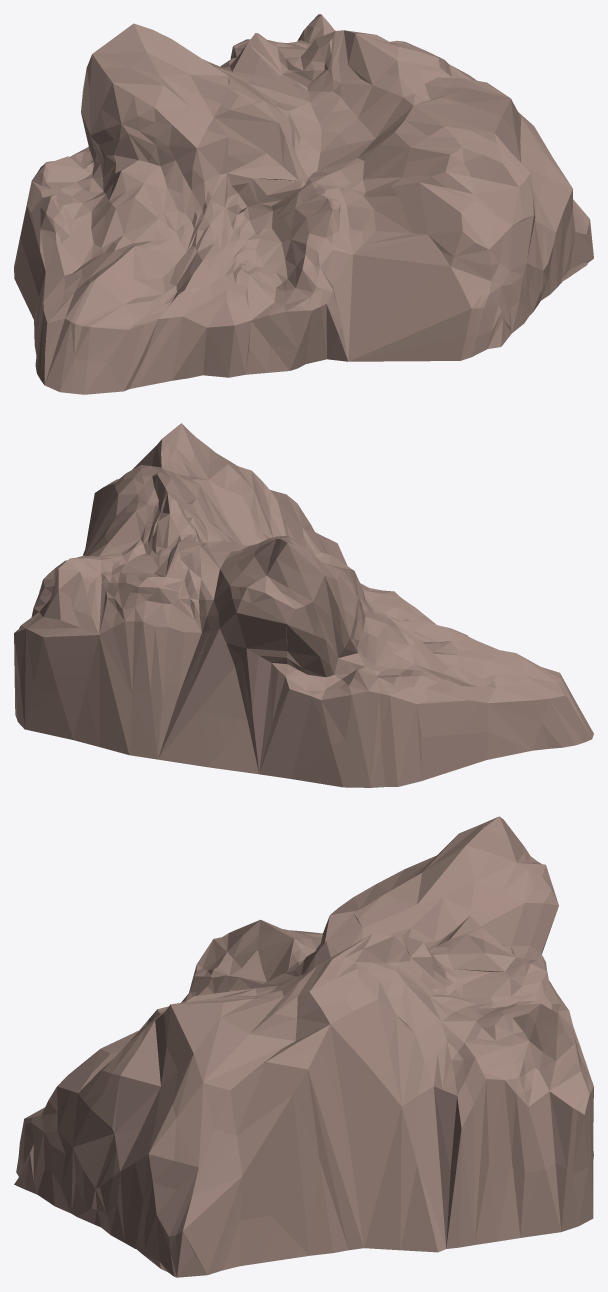
File: mountain.007.fbx
The picture shows the model from 3 angles, top to bottom: view 1: azimuth 30°, elevation 25°; view 2: azimuth 150°, elevation 25°; view 3: azimuth 270°, elevation 25°; orthographic projection. The views are drawn at different scales.
Visible parts, largest first — view 1: mountain_007; view 2: mountain_007; view 3: mountain_007.
Part boxes in pixels (x1=…): mountain_007: x1=14, y1=14, x2=593, y2=394; mountain_007: x1=14, y1=423, x2=593, y2=787; mountain_007: x1=14, y1=816, x2=593, y2=1277.
Bounding box in the file's own units: 31320 × 13532 × 24401.
